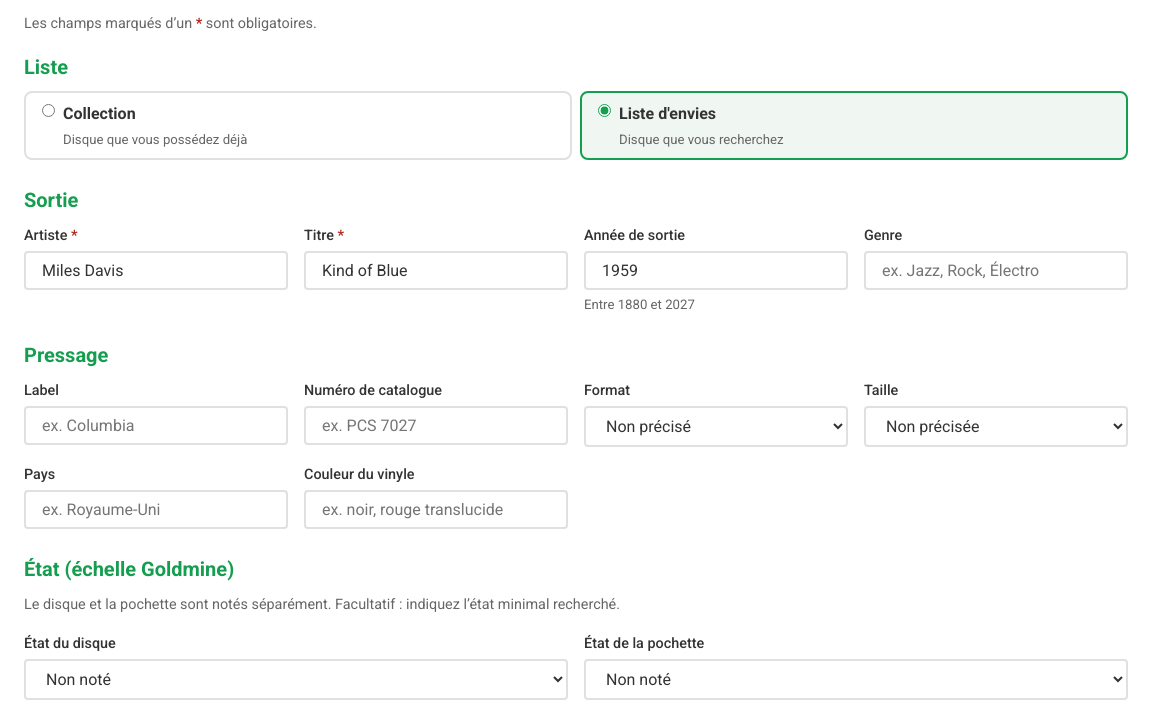
Scenario: FormulaireVinyle › pré-remplit le formulaire en mode modification, détecte les changements et permet de réinitialiser
Check: the number field labelled "Année de sortie" holds "1959", box left=584, top=251, right=848, bottom=290
Check: the radio button labelled "Liste d'envies" is checked, box left=598, top=104, right=611, bottom=117
Clear the field labelled "Artiste *" at [156, 270], box left=24, top=251, right=288, bottom=290
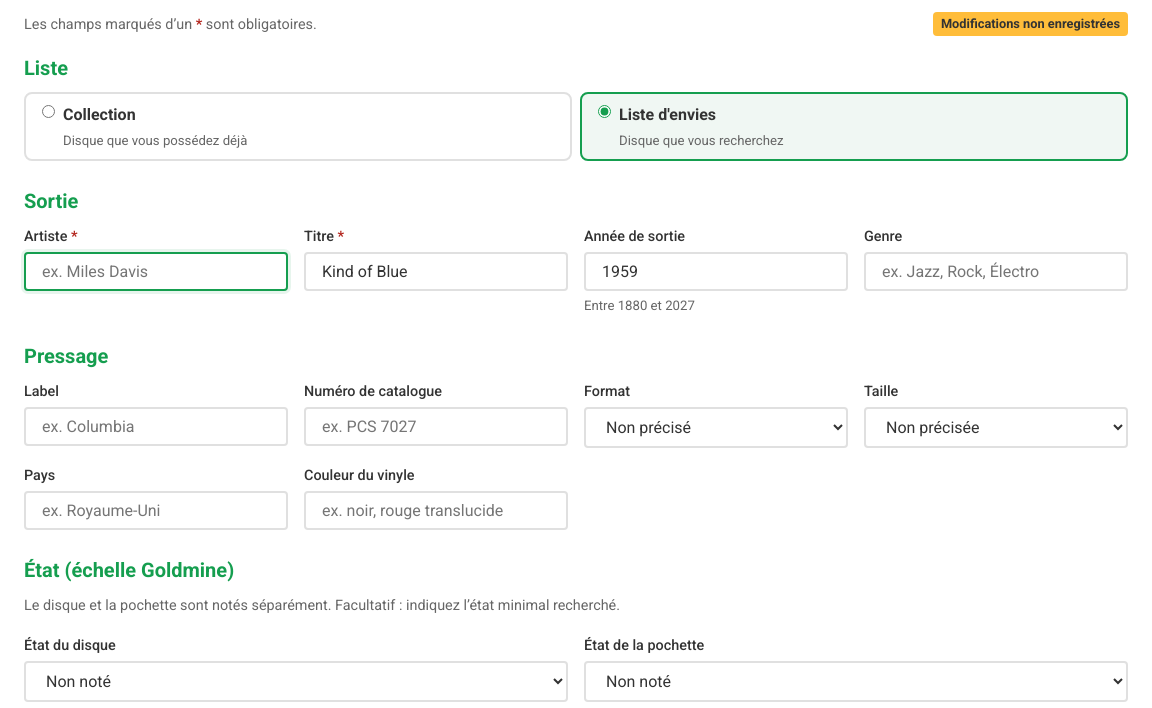
Type "John Coltrane" into the field labelled "Artiste *".
click(156, 272); type("John Coltrane")  # box left=24, top=252, right=288, bottom=291
(page scrolled)
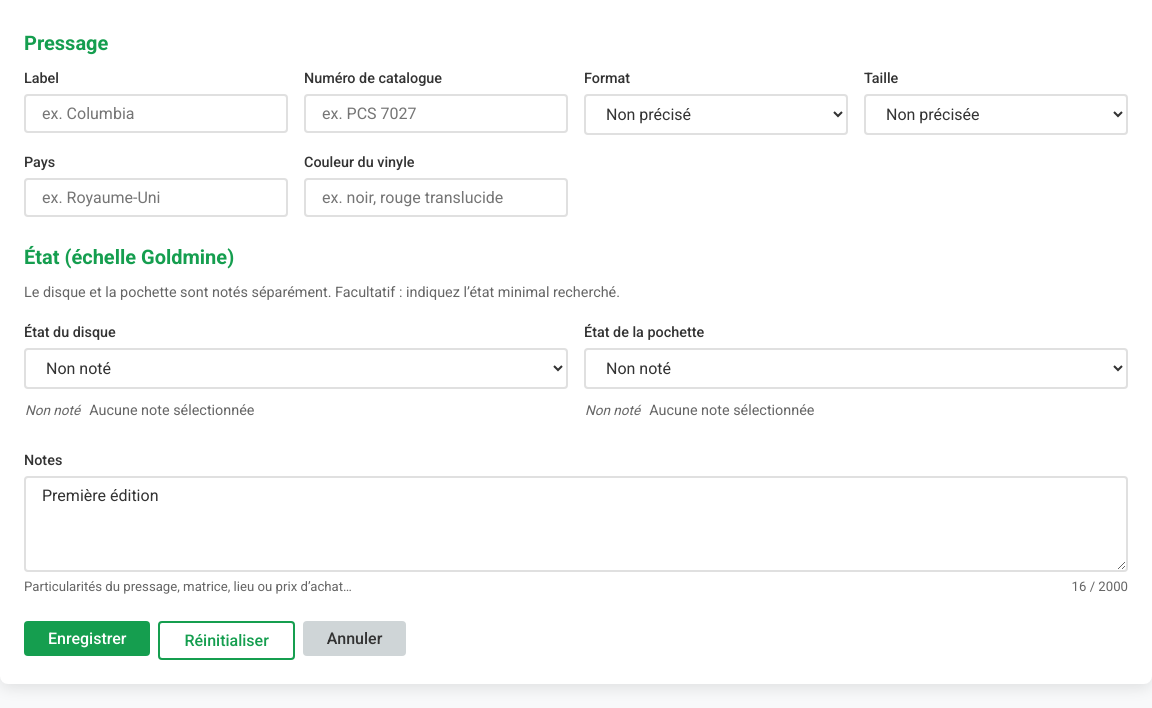
Check: the button "Réinitialiser" is enabled
Click the button "Réinitialiser".
click(227, 640)  # box left=158, top=621, right=295, bottom=660
(page scrolled)
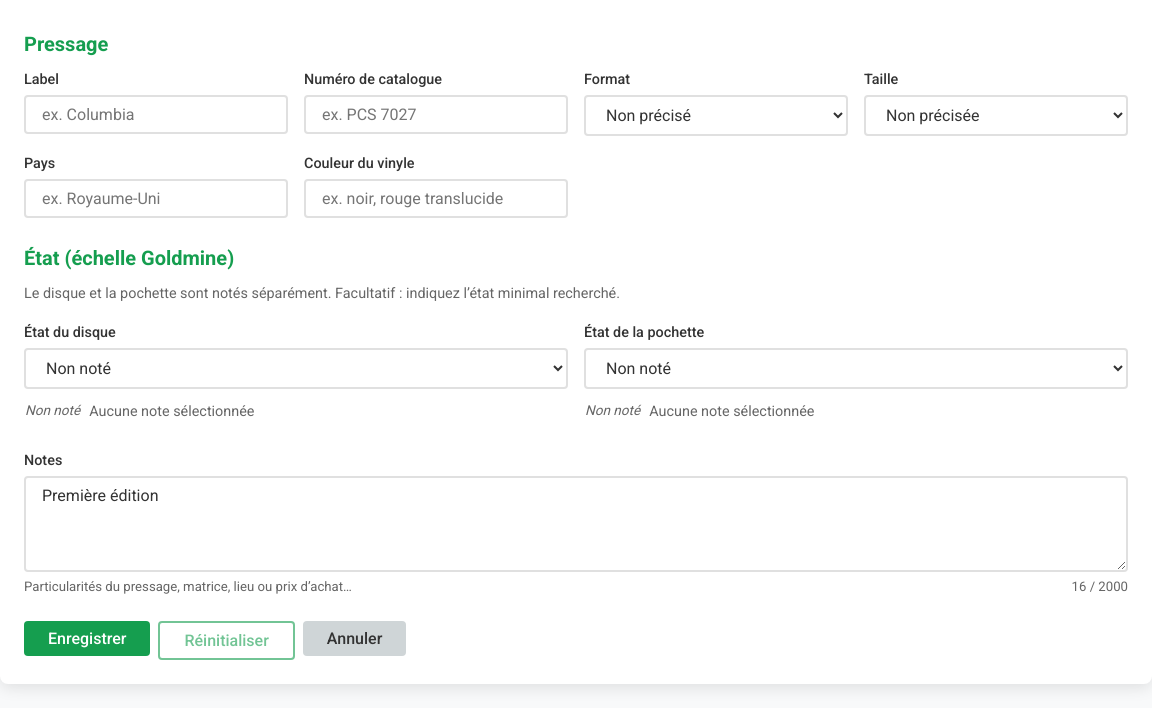
Check: the message "Modifications non enregistrées" is not shown
Check: the button "Réinitialiser" is disabled, box left=158, top=621, right=295, bottom=660
